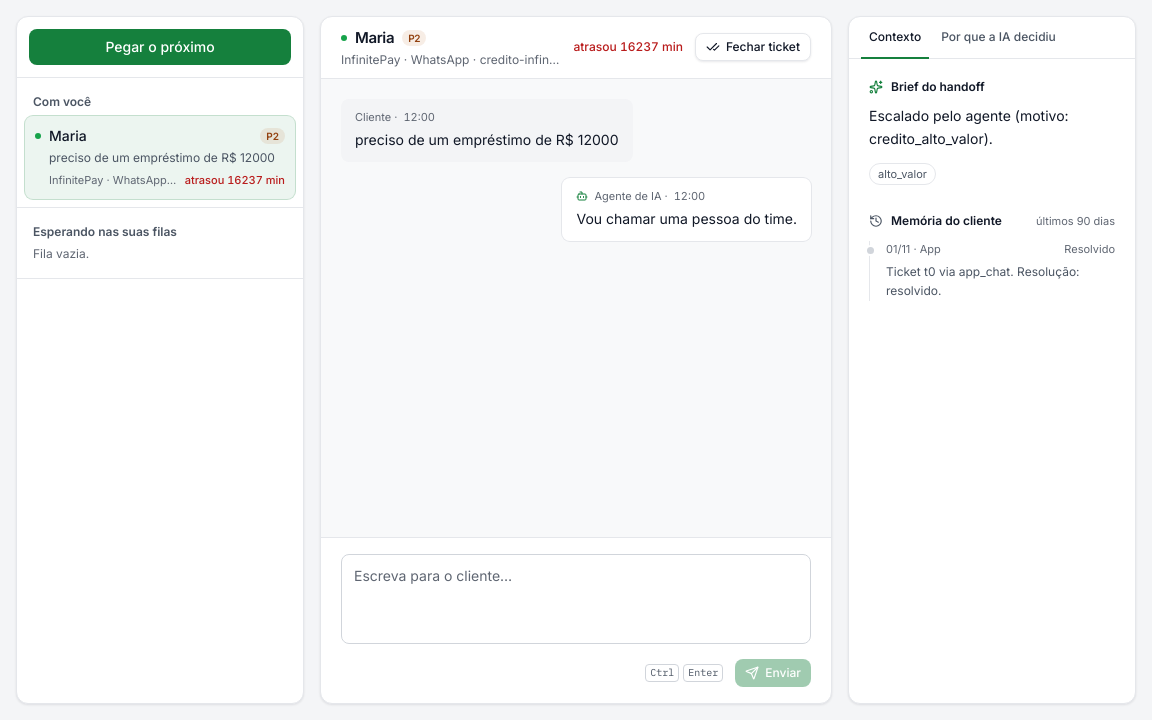
Test: painel do analista › responde ao cliente
Step 1. Type "Oi, Maria, sou a Ana." into the text box named "Resposta ao cliente" → (576, 599), box [341, 554, 811, 644]
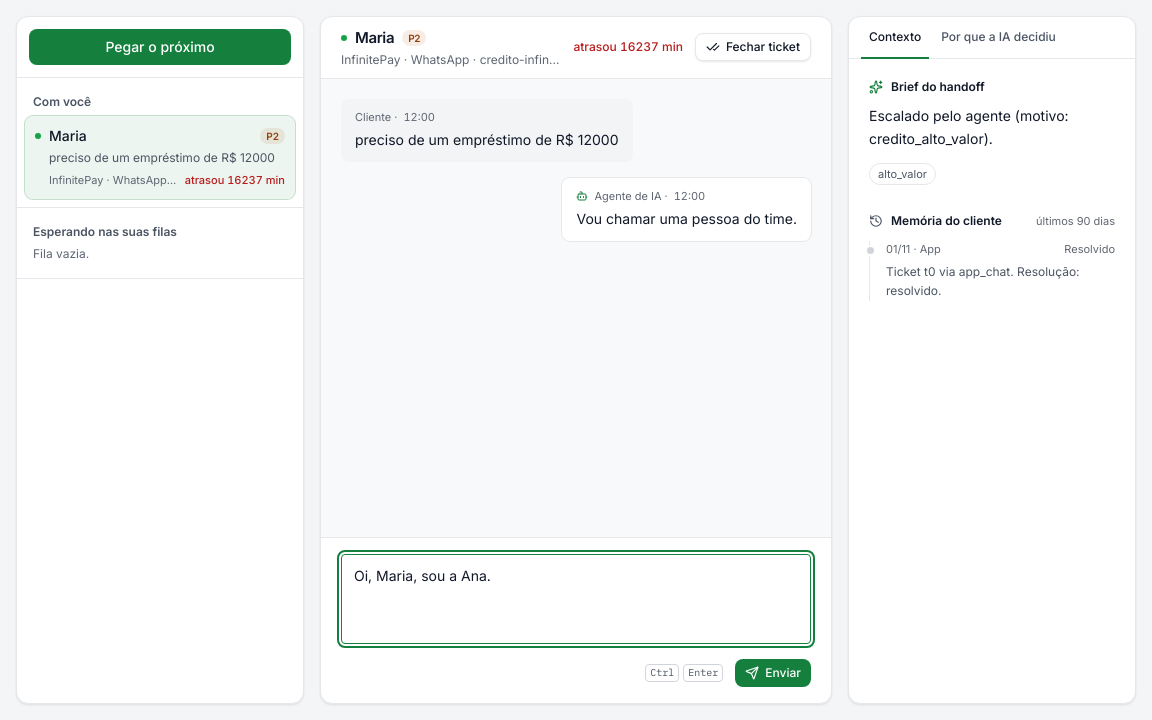
Step 2. Click the button "Enviar" → (773, 673), box [735, 659, 811, 687]
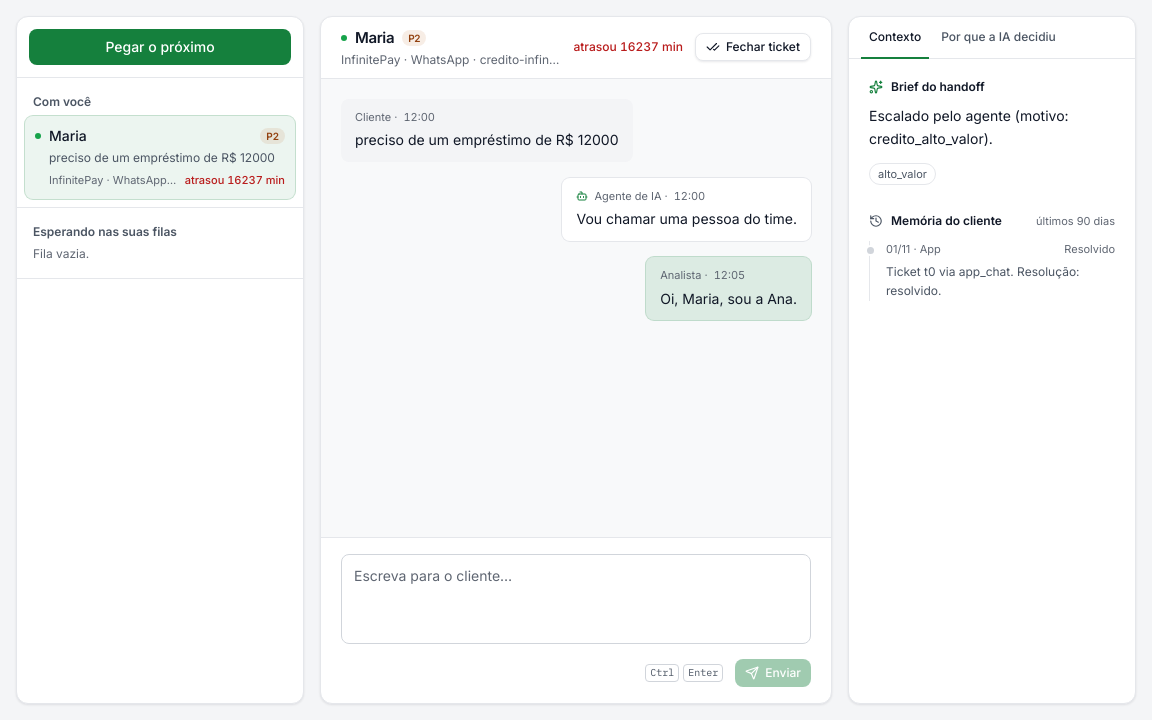
Expected: the text "Oi, Maria, sou a Ana." is shown, [660, 288, 797, 310]
